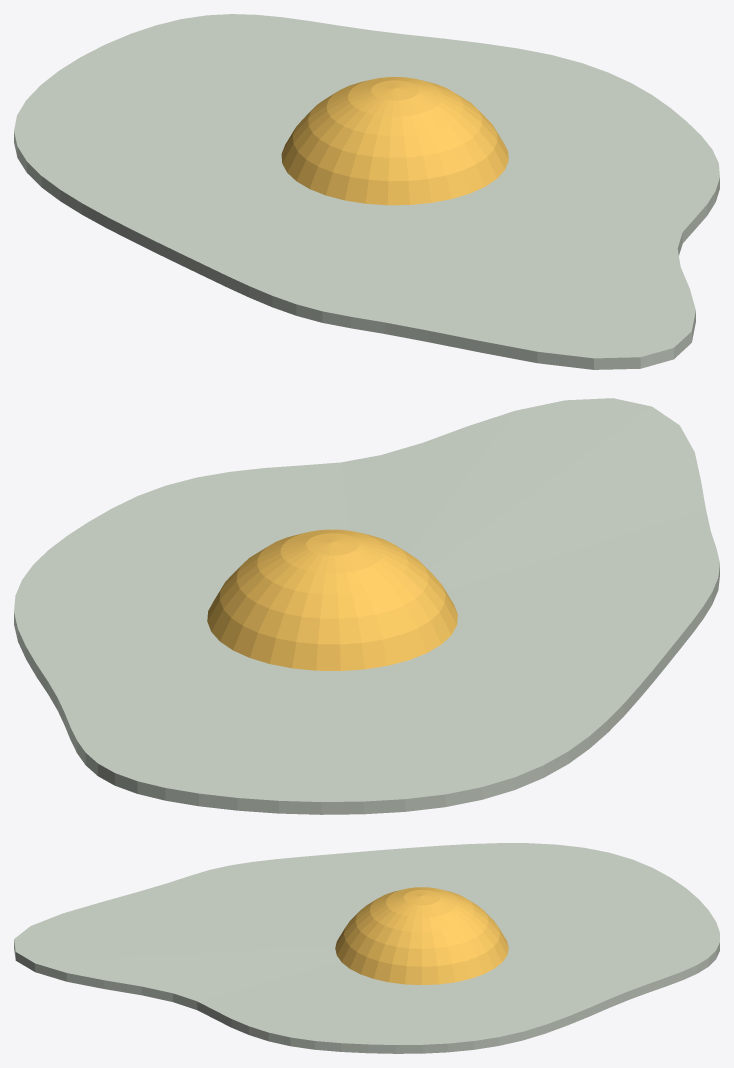
The model's file is egg.fbx.
3 renders of one model, top to bottom at view 1: azimuth 30°, elevation 25°; view 2: azimuth 150°, elevation 25°; view 3: azimuth 270°, elevation 25°, orthographic. The views are drawn at different scales.
Visible parts, largest first — view 1: Circle, Sphere; view 2: Circle, Sphere; view 3: Circle, Sphere.
Boxes of the visible parts, left/top/right/bottom form: Circle: left=14, top=14, right=719, bottom=369; Sphere: left=281, top=77, right=508, bottom=205; Circle: left=14, top=398, right=719, bottom=814; Sphere: left=207, top=529, right=457, bottom=670; Circle: left=14, top=843, right=719, bottom=1053; Sphere: left=335, top=887, right=508, bottom=985.
Size of the model in its own units: 147 by 21.18 by 218.
